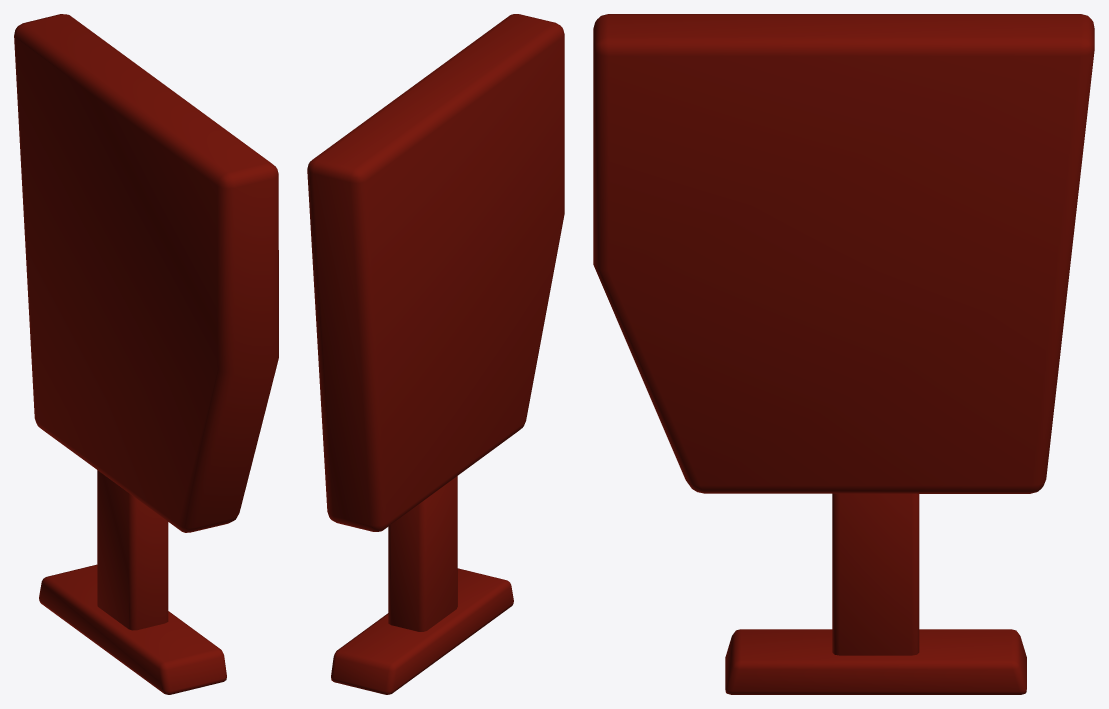
File: reposabrazos.fbx
3 renders of one model, left to right at view 1: azimuth 30°, elevation 25°; view 2: azimuth 150°, elevation 25°; view 3: azimuth 270°, elevation 25°, orthographic. The views are drawn at different scales.
Parts seen in each view (by area): view 1: reposabrazos:001; view 2: reposabrazos:001; view 3: reposabrazos:001.
Part boxes in pixels (x1,y1,x2,y2): reposabrazos:001: (14, 14, 278, 694); reposabrazos:001: (307, 14, 564, 694); reposabrazos:001: (593, 14, 1094, 694).
Size of the model in its own units: 13.3 by 111 by 76.86.
1 material, 1 textured.
